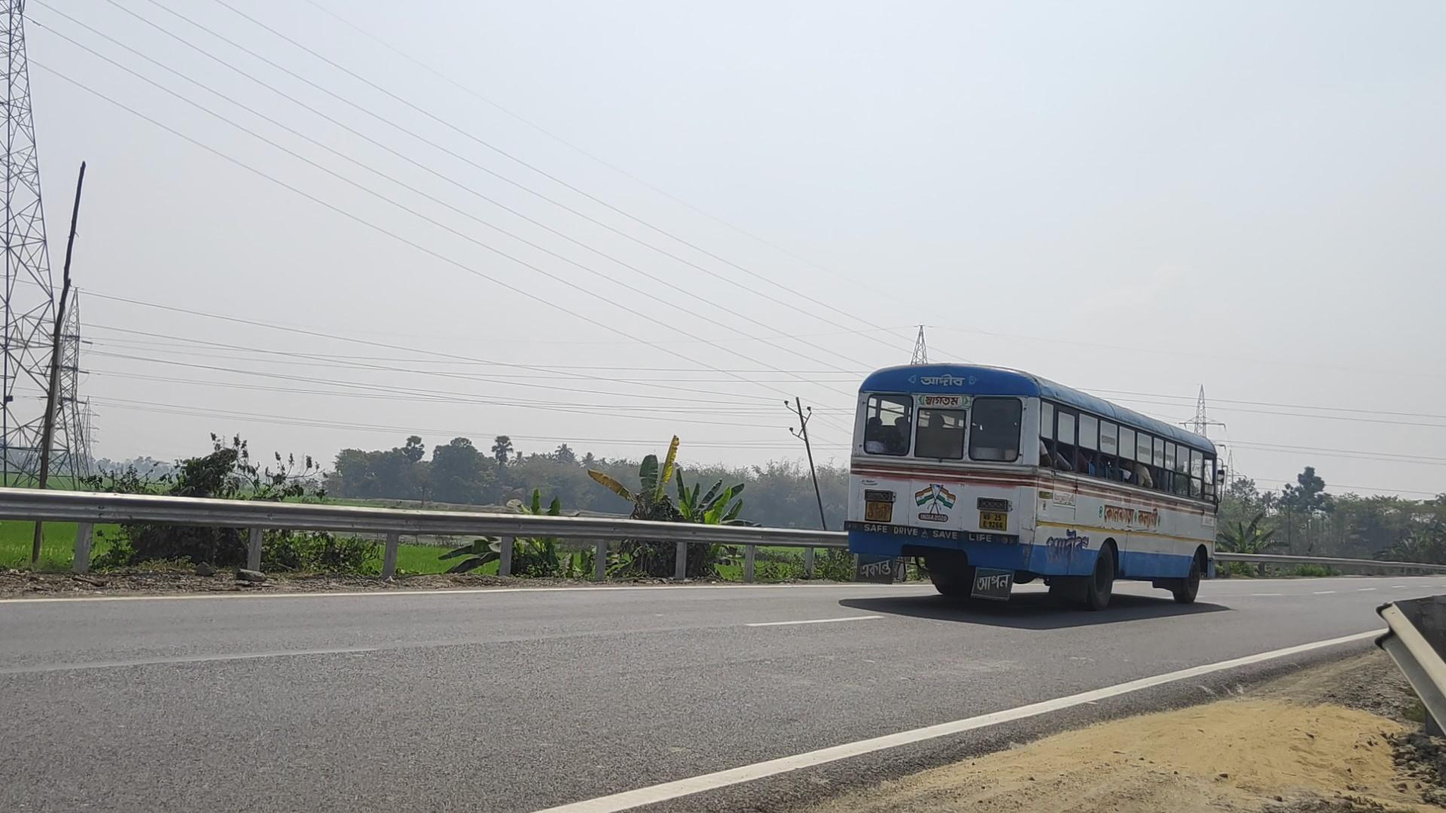Bus: (844, 363, 1225, 608)
